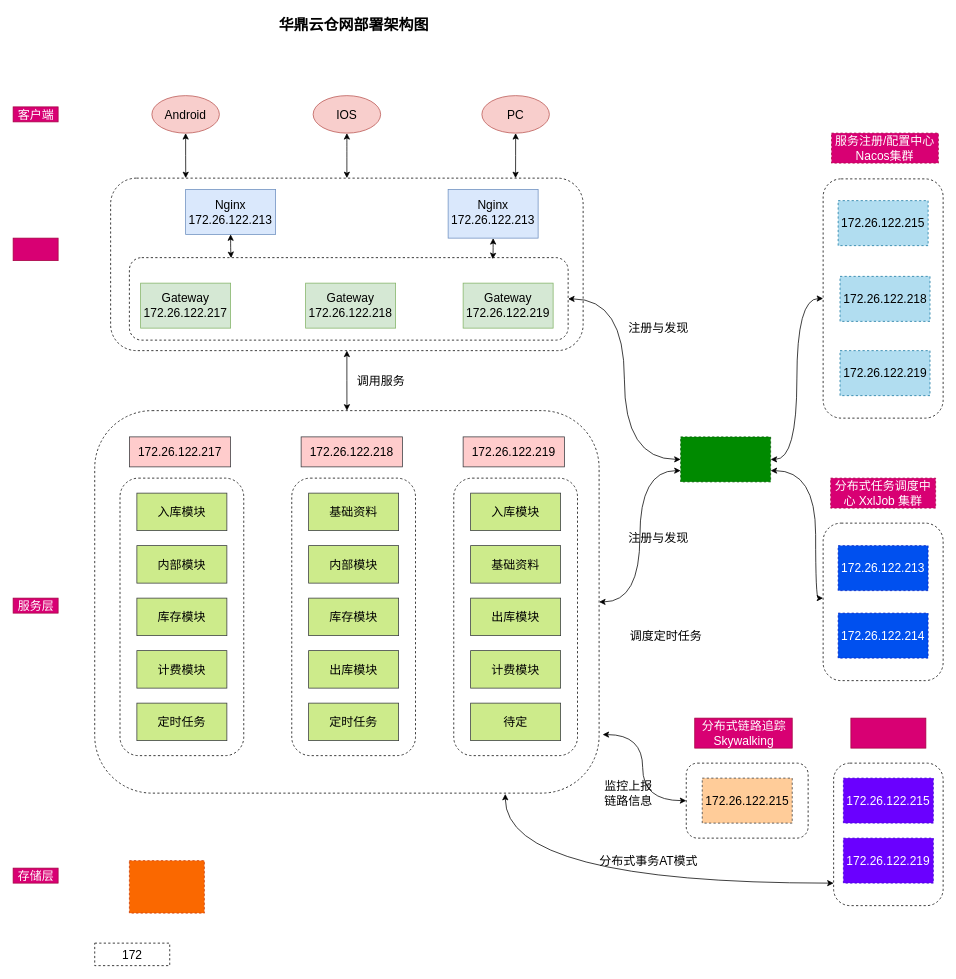
Some shapes in this 956 by 979 pixel diagram are drawn without their labels. Each missing label, with the box of its shape:
Redis集群（三主三从）: (129, 860, 204, 913)
内部Nginx 172.26.122.217: (680, 436, 771, 482)
分布式事务 Seata: (850, 717, 926, 748)
网关层: (12, 237, 58, 261)
